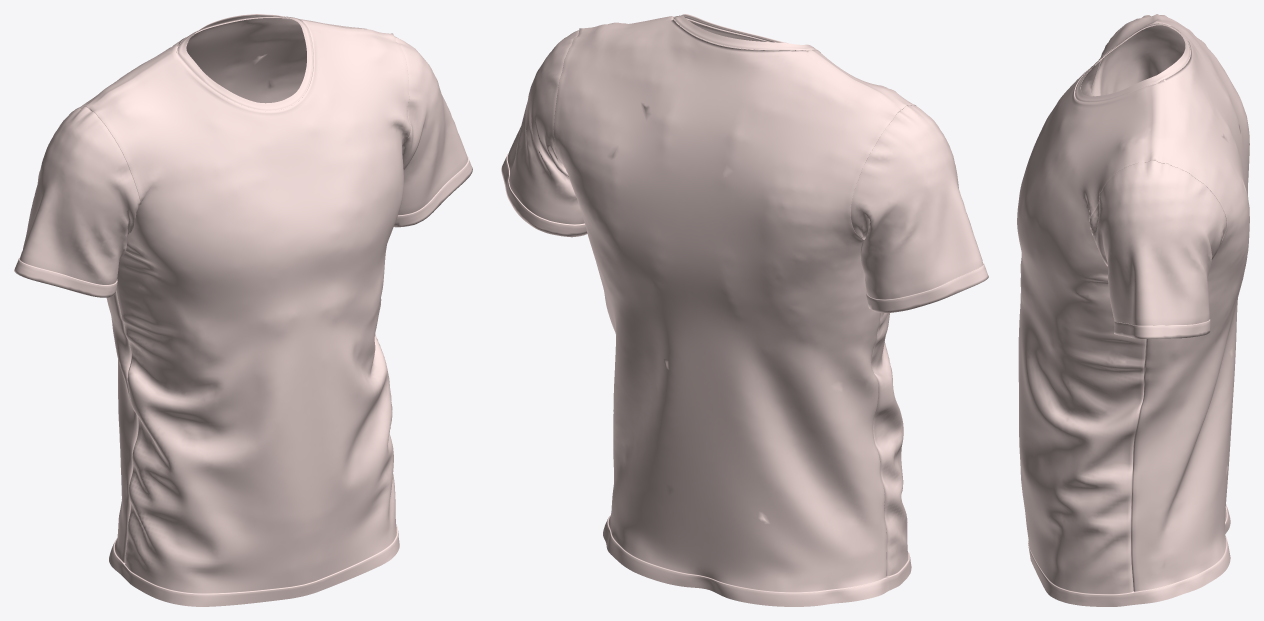
File: remera.glb
3 views of the same model, side by side, from view 1: azimuth 30°, elevation 25°; view 2: azimuth 150°, elevation 25°; view 3: azimuth 270°, elevation 25° (orthographic). The views are drawn at different scales.
Parts seen in each view (by area): view 1: T_Shirt_exterieur_ext_0_0, T_Shirt_int_int_0_1; view 2: T_Shirt_exterieur_ext_0_0, T_Shirt_int_int_0_1; view 3: T_Shirt_exterieur_ext_0_0, T_Shirt_int_int_0_1.
Boxes of the visible parts, bbox=[...] form: T_Shirt_exterieur_ext_0_0: bbox=[14, 16, 472, 606]; T_Shirt_int_int_0_1: bbox=[140, 14, 409, 204]; T_Shirt_exterieur_ext_0_0: bbox=[501, 14, 988, 606]; T_Shirt_int_int_0_1: bbox=[673, 14, 805, 50]; T_Shirt_exterieur_ext_0_0: bbox=[1017, 14, 1249, 606]; T_Shirt_int_int_0_1: bbox=[1080, 23, 1190, 508].
Size of the model in its own units: 0.6394 by 0.6992 by 0.2895.
1 material, 1 textured.
